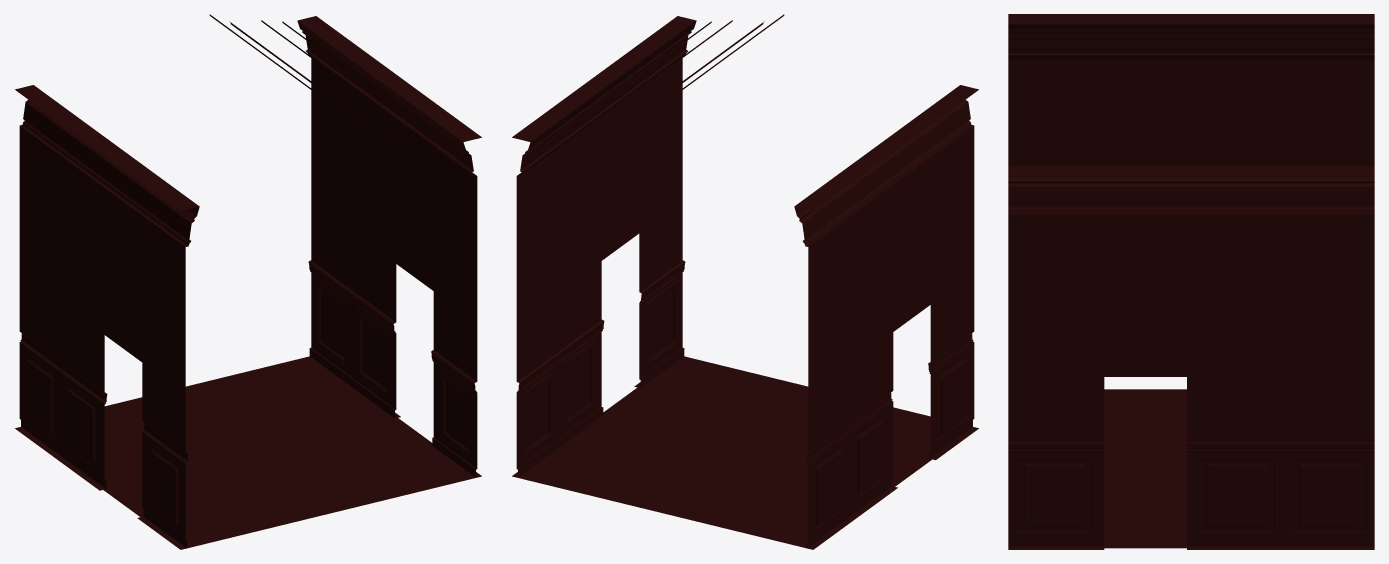
File: mid_hallway_v1.0.FBX
The picture shows the model from 3 angles, left to right: view 1: azimuth 30°, elevation 25°; view 2: azimuth 150°, elevation 25°; view 3: azimuth 270°, elevation 25°; orthographic projection. The views are drawn at different scales.
Parts seen in each view (by area): view 1: hallway_mid; view 2: hallway_mid; view 3: hallway_mid.
Boxes of the visible parts, x1,y1,x2,y2 form: hallway_mid: (15,14,481,549); hallway_mid: (512,14,978,549); hallway_mid: (1008,14,1374,549).
Bounding box in the file's own units: 165 × 157 × 192.
